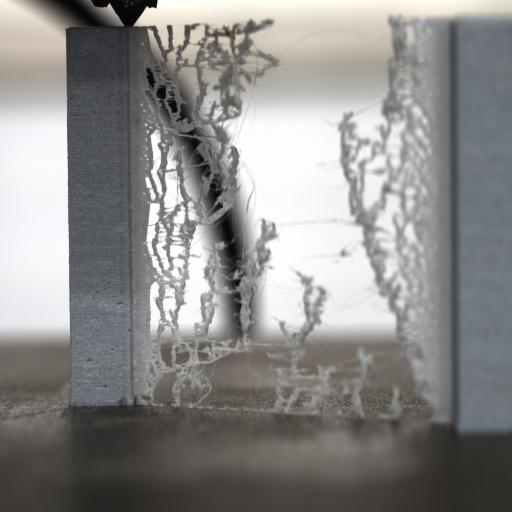stringing: (141, 16, 283, 403), (324, 0, 449, 422)
